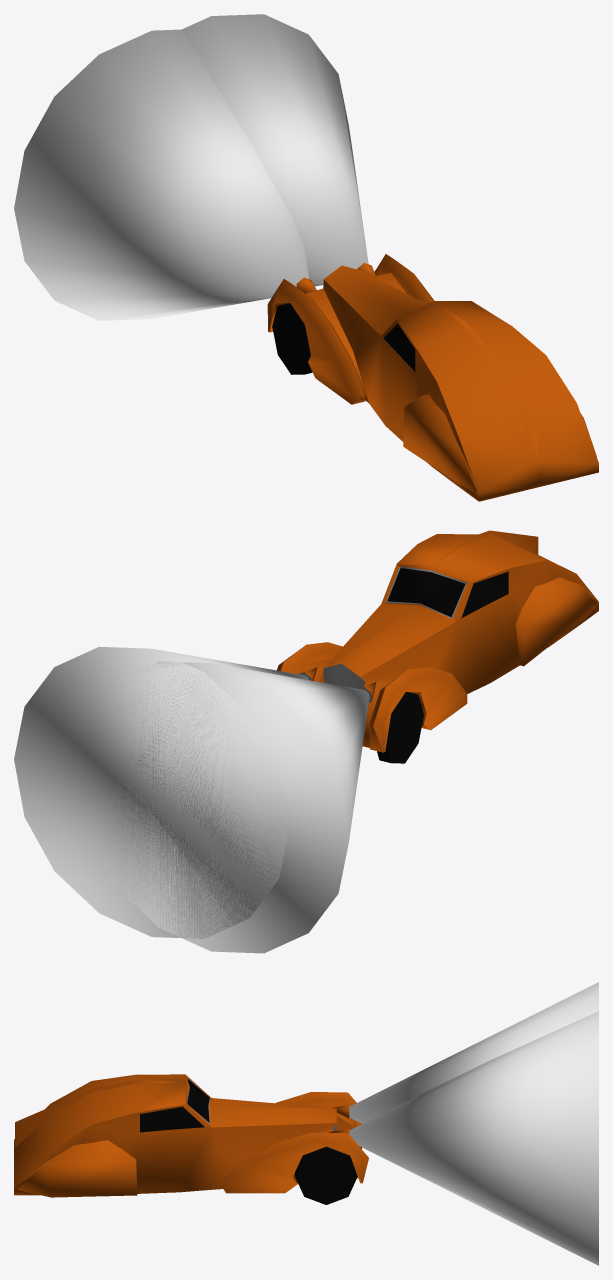
File: car.fbx
The picture shows the model from 3 angles, top to bottom: view 1: azimuth 30°, elevation 25°; view 2: azimuth 150°, elevation 25°; view 3: azimuth 270°, elevation 25°; orthographic projection. The views are drawn at different scales.
Parts seen in each view (by area): view 1: Cone, Cube; view 2: Cone, Cube; view 3: Cone, Cube.
Part boxes in pixels (x1,y1,x2,y2): Cone: [14, 14, 368, 320]; Cube: [267, 254, 598, 501]; Cone: [14, 646, 369, 953]; Cube: [277, 530, 598, 763]; Cone: [349, 982, 598, 1265]; Cube: [14, 1074, 368, 1204].
Bounding box in the file's own units: 243 × 449 × 200.
